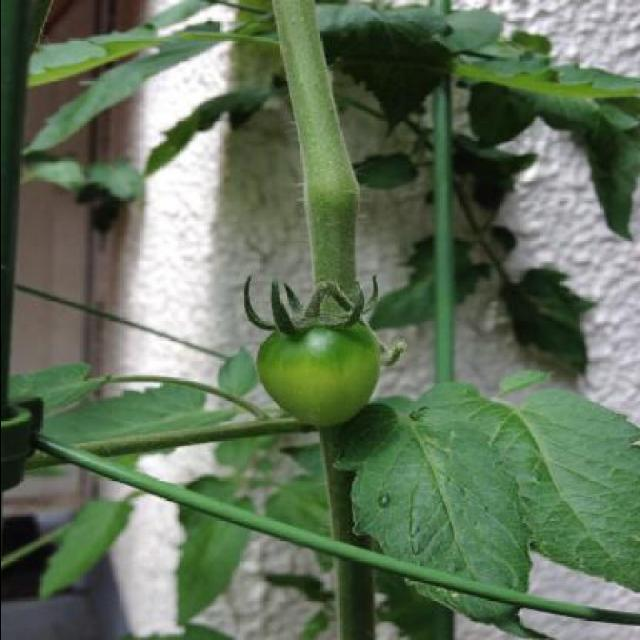Tomato: (247, 270, 403, 428)
